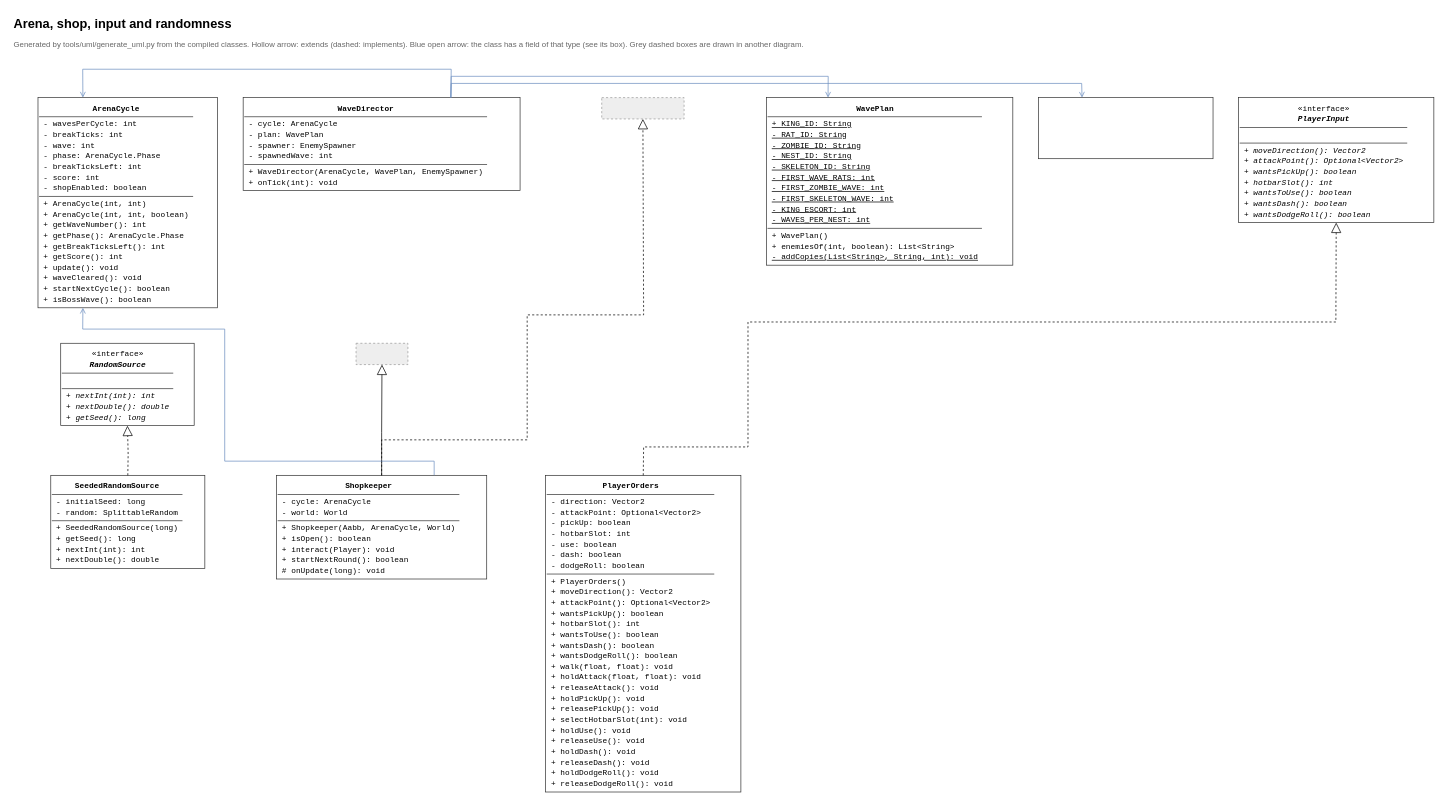
Some shapes in this 1446 by 804 pixel diagram are drawn without their labels. The shapes that lost their labels are listed below. From the top down, each one's centre as x and y in pixels, then its label:
point 642,108: Interactable
point 1125,128: «interface» EnemySpawner + spawn(String, boolean): void
point 381,354: Entity
